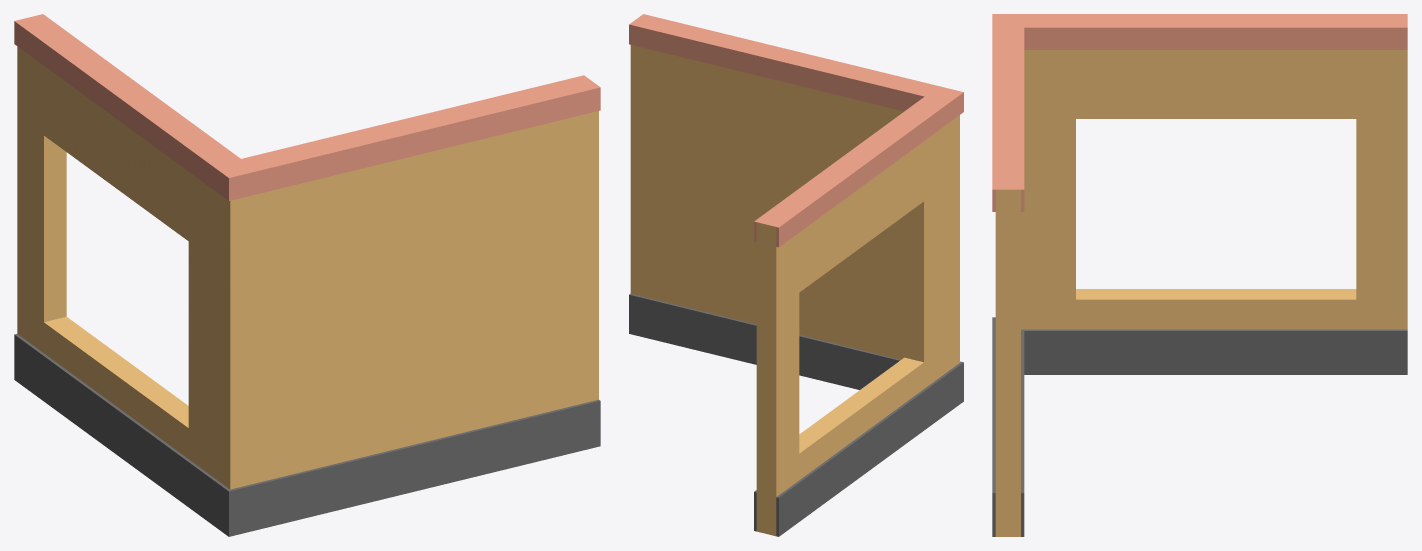
Rendered from Wall01-05.fbx.
3 renders of one model, left to right at view 1: azimuth 30°, elevation 25°; view 2: azimuth 150°, elevation 25°; view 3: azimuth 270°, elevation 25°, orthographic. The views are drawn at different scales.
Visible parts, largest first — view 1: Wall01-05; view 2: Wall01-05; view 3: Wall01-05.
Boxes of the visible parts, left/top/right/bottom form: Wall01-05: left=14, top=14, right=600, bottom=536; Wall01-05: left=629, top=14, right=963, bottom=536; Wall01-05: left=992, top=14, right=1407, bottom=536.
Size of the model in its own units: 3.25 by 3.25 by 3.
